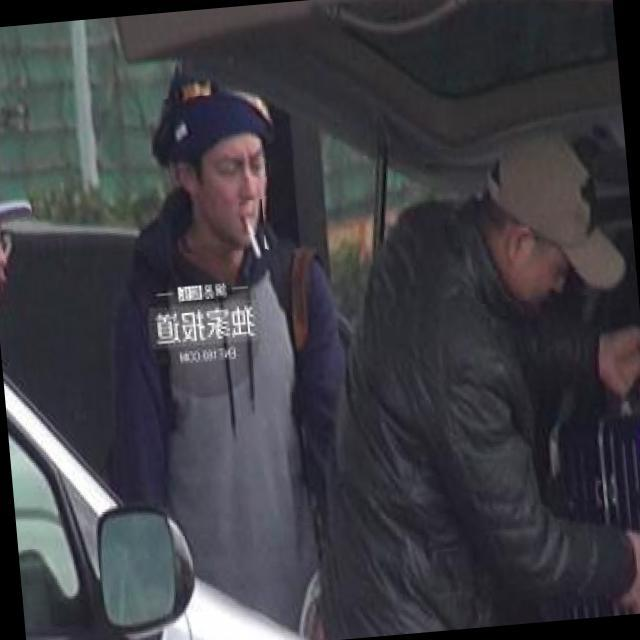cigarette: (240, 198, 268, 272)
